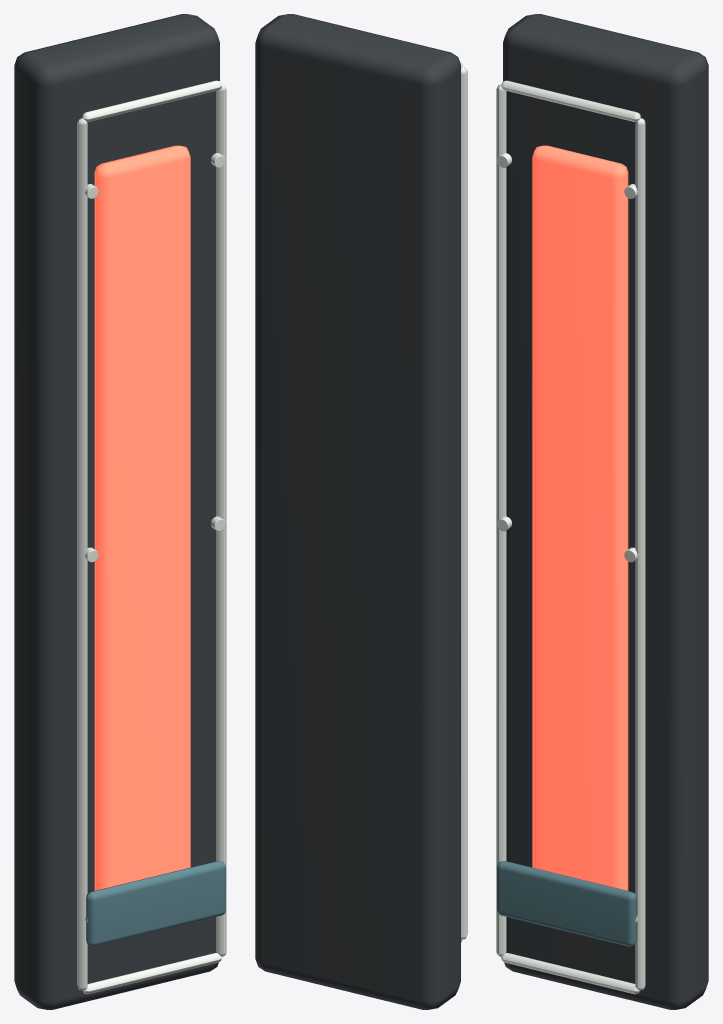
Rendered from hp_switch_state_light_red.glb.
3 renders of one model, left to right at view 1: azimuth 30°, elevation 25°; view 2: azimuth 150°, elevation 25°; view 3: azimuth 330°, elevation 25°, orthographic.
Parts seen in each view (by area): view 1: switch_state_light_red_back_rail, switch_state_light_red_light_strip, switch_state_light_red_light_trim_trim_left, switch_state_light_red_light_trim_trim_right, switch_state_light_red_state_light_back_color_art_color_bloc, switch_state_light_red_light_trim_trim_top, switch_state_light_red_light_trim_trim_bottom; view 2: switch_state_light_red_back_rail, switch_state_light_red_light_trim_trim_left; view 3: switch_state_light_red_back_rail, switch_state_light_red_light_strip, switch_state_light_red_light_trim_trim_right, switch_state_light_red_light_trim_trim_left, switch_state_light_red_state_light_back_color_art_color_bloc, switch_state_light_red_light_trim_trim_top, switch_state_light_red_light_trim_trim_bottom.
Boxes of the visible parts, x1,y1,x2,y2 form: switch_state_light_red_back_rail: (14,14,219,1009); switch_state_light_red_light_strip: (94,145,190,890); switch_state_light_red_light_trim_trim_left: (77,118,87,990); switch_state_light_red_light_trim_trim_right: (216,84,226,956); switch_state_light_red_state_light_back_color_art_color_bloc: (86,861,225,946); switch_state_light_red_light_trim_trim_top: (82,80,221,121); switch_state_light_red_light_trim_trim_bottom: (82,953,221,994); switch_state_light_red_back_rail: (255,14,460,1009); switch_state_light_red_light_trim_trim_left: (461,67,467,939); switch_state_light_red_back_rail: (503,14,708,1009); switch_state_light_red_light_strip: (532,145,628,890); switch_state_light_red_light_trim_trim_right: (635,118,645,990); switch_state_light_red_light_trim_trim_left: (496,84,506,956); switch_state_light_red_state_light_back_color_art_color_bloc: (497,861,636,946); switch_state_light_red_light_trim_trim_top: (501,80,640,121); switch_state_light_red_light_trim_trim_bottom: (501,953,640,994).
Bounding box in the file's own units: 0.16 × 0.78 × 0.088.
